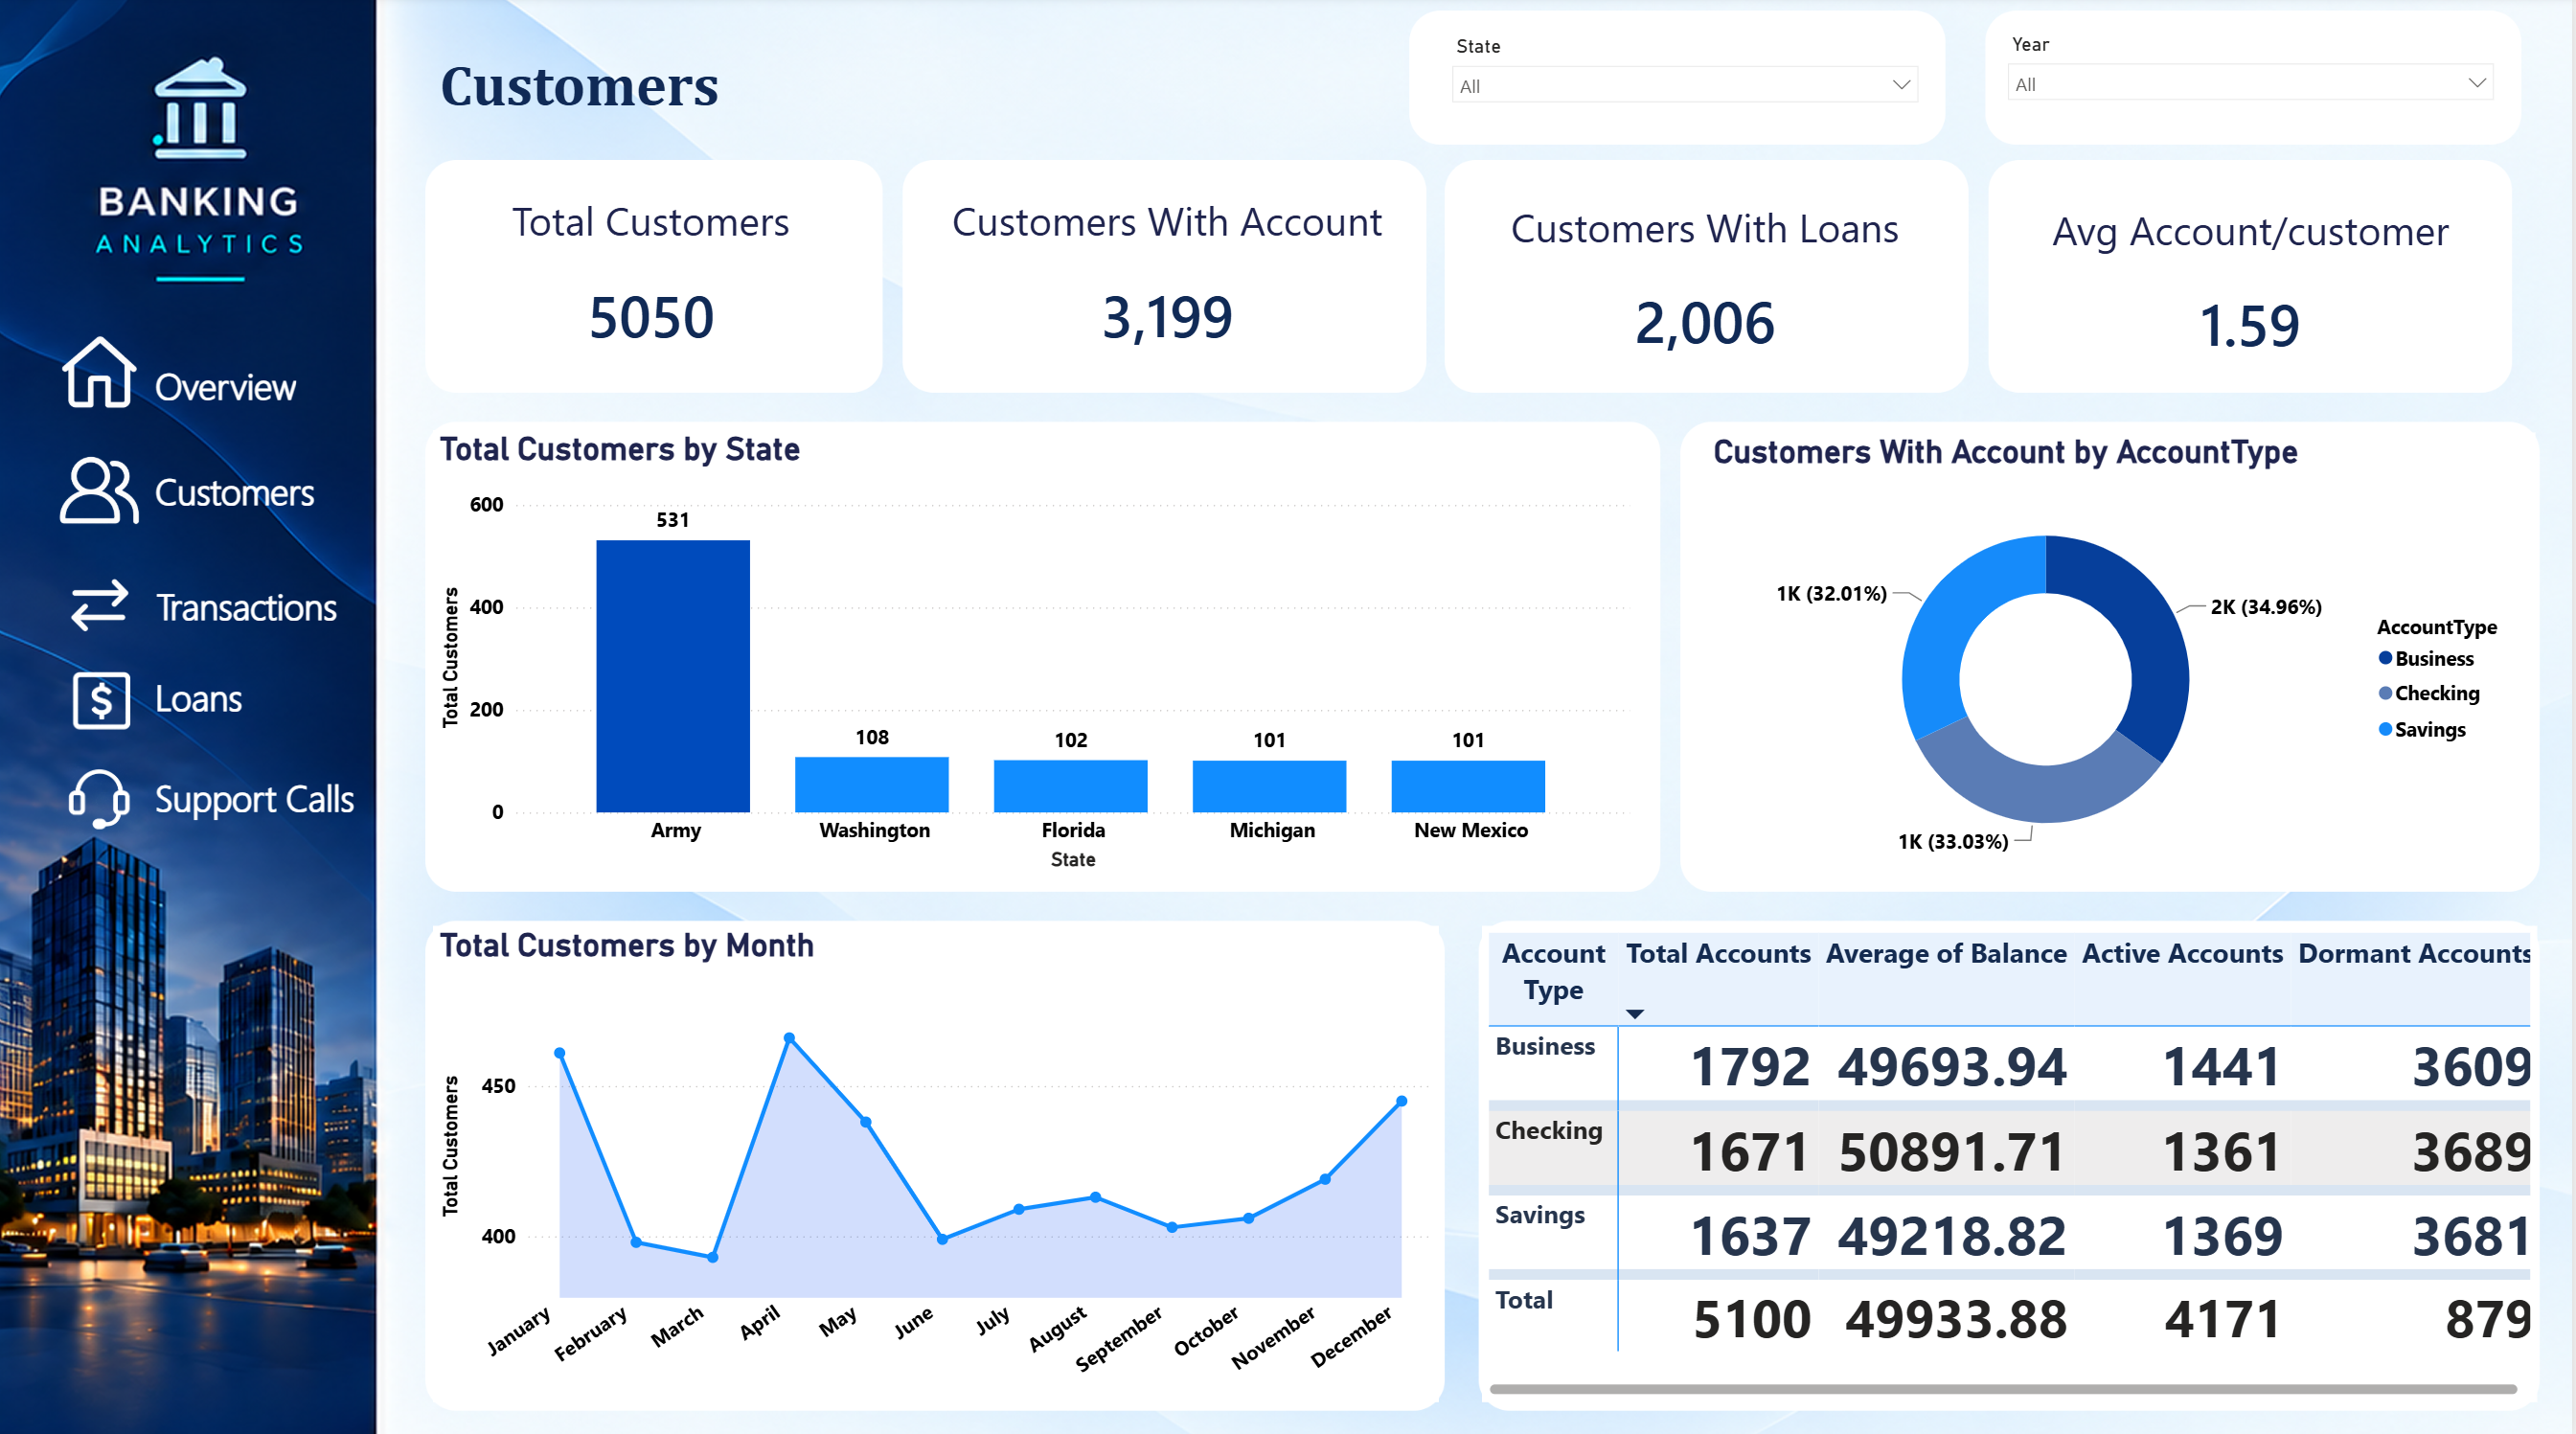

Layout of this report page (visuals, bound fields, positions):
{"tool":"powerbi","page":{"name":"Customer","canvas":[1920,1080],"ordinal":2},"visuals":[{"type":"cardVisual","fields":{"Data":["Calculation Overview.Total Customers"]},"box":[325,125,325,165],"z":0},{"type":"cardVisual","fields":{"Data":["Customers Calculations.Customers With Account"]},"box":[681.7,125,381.7,165],"z":1000},{"type":"cardVisual","fields":{"Data":["Customers Calculations.Customers With Loans"]},"box":[1091.7,133.3,365,156.7],"z":2000},{"type":"cardVisual","fields":{"Data":["Customers Calculations.Avg Account/customer"]},"box":[1490,140,382.5,150],"z":3000},{"type":"lineChart","fields":{"Category":["Calender.Date.Variation.Date Hierarchy.Year","Calender.Date.Variation.Date Hierarchy.Quarter","Calender.Date.Variation.Date Hierarchy.Month","Calender.Date.Variation.Date Hierarchy.Day"],"Y":["Calculation Overview.Total Customers"]},"box":[325,694.6,750,355.4],"z":4000},{"type":"clusteredColumnChart","fields":{"Category":["customers.State"],"Y":["Calculation Overview.Total Customers"]},"box":[325,325,897.5,332.5],"z":5000},{"type":"donutChart","fields":{"Category":["Accounts.AccountType"],"Y":["Customers Calculations.Customers With Account"]},"box":[1275,327.5,617.5,330],"z":6000},{"type":"pivotTable","fields":{"Rows":["Accounts.AccountType"],"Values":["Calculation Overview.Total Accounts","Avg(Accounts.Balance)","Customers Calculations.Active Accounts","Customers Calculations.Dormant Accounts"]},"box":[1106.7,695,786.7,355],"z":7000},{"type":"slicer","fields":{"Values":["Calender.Year"]},"box":[1490,22.5,382.5,82.5],"z":8000},{"type":"slicer","fields":{"Values":["customers.State"]},"box":[1075,25,367.5,80],"z":9000},{"type":"textbox","box":[325,20,272.9,84.3],"z":10000},{"type":"image","box":[39.4,228.1,73.6,105.5],"z":11000},{"type":"image","box":[39.4,335.6,73.8,66.2],"z":12000},{"type":"image","box":[39.4,418.1,73.8,73.8],"z":13000},{"type":"image","box":[39.4,503.1,73.8,47.5],"z":14000},{"type":"image","box":[39.8,573.5,73.8,53.8],"z":15000},{"type":"shape","box":[118.8,338.8,136.7,60],"z":16000},{"type":"shape","box":[117.5,425,136.7,60],"z":17000},{"type":"shape","box":[117.5,492.5,136.7,60],"z":18000},{"type":"shape","box":[117.5,567.5,150.9,60],"z":19000},{"type":"shape","box":[117.5,260,136.7,60],"z":20000}]}

Visuals, with their boxes on the page's 1920x1080 design canvas (x1, y1, x2, y2). These are canvas units, not pixel positions in the 2576x1434 screenshot, which may show the page scaled, cropped or inside an application window:
cardVisual - Calculation Overview.Total Customers: [325,125,650,290]
cardVisual - Customers Calculations.Customers With Account: [682,125,1063,290]
cardVisual - Customers Calculations.Customers With Loans: [1092,133,1457,290]
cardVisual - Customers Calculations.Avg Account/customer: [1490,140,1872,290]
lineChart - Calender.Date.Variation.Date Hierarchy.Year x Calender.Date.Variation.Date Hierarchy.Quarter: [325,695,1075,1050]
clusteredColumnChart - customers.State x Calculation Overview.Total Customers: [325,325,1222,658]
donutChart - Accounts.AccountType x Customers Calculations.Customers With Account: [1275,328,1892,658]
pivotTable - Accounts.AccountType x Calculation Overview.Total Accounts: [1107,695,1893,1050]
slicer - Calender.Year: [1490,22,1872,105]
slicer - customers.State: [1075,25,1442,105]
textbox: [325,20,598,104]
image: [39,228,113,334]
image: [39,336,113,402]
image: [39,418,113,492]
image: [39,503,113,551]
image: [40,574,114,627]
shape: [119,339,256,399]
shape: [118,425,254,485]
shape: [118,492,254,552]
shape: [118,568,268,628]
shape: [118,260,254,320]
